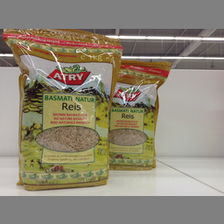rice: (2, 29, 122, 191), (108, 60, 170, 170)
